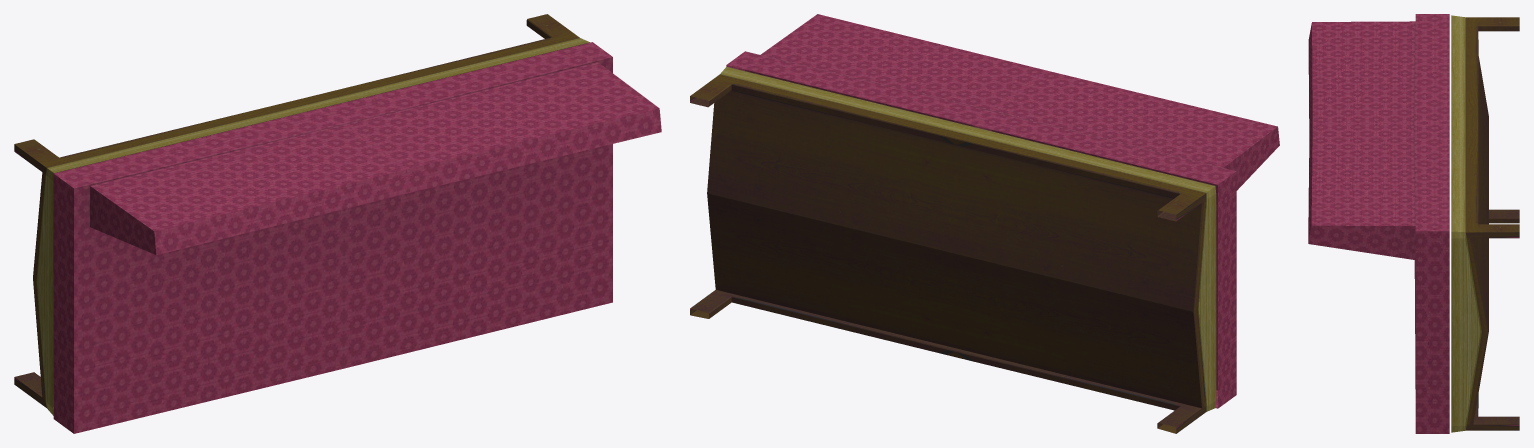
The model's file is nt_2020_house_02_couch_LOD2.obj.
3 views of the same model, side by side, from view 1: azimuth 30°, elevation 25°; view 2: azimuth 150°, elevation 25°; view 3: azimuth 270°, elevation 25° (orthographic). The views are drawn at different scales.
Visible parts, largest first — view 1: mtl_nt_2020_house_02_couch; view 2: mtl_nt_2020_house_02_couch; view 3: mtl_nt_2020_house_02_couch.
Part boxes in pixels (x1,y1,x2,y2): mtl_nt_2020_house_02_couch: (14, 14, 661, 433); mtl_nt_2020_house_02_couch: (690, 14, 1279, 433); mtl_nt_2020_house_02_couch: (1308, 14, 1519, 433).
Size of the model in its own units: 191 by 83.14 by 78.49.
